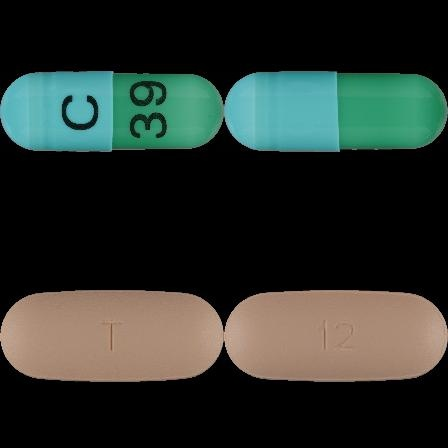68788-9703: (0, 0, 224, 224)
